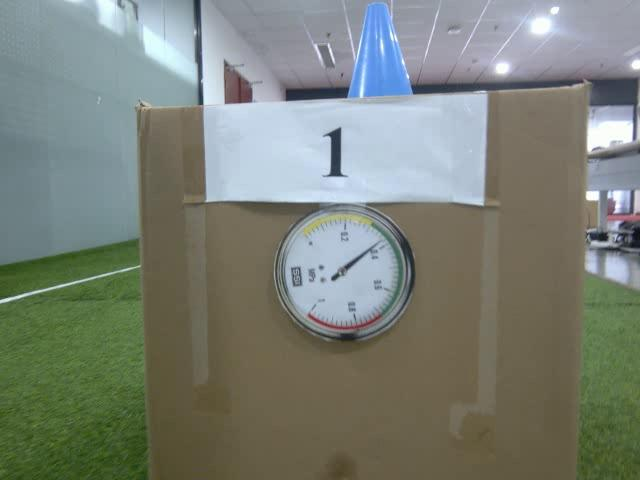1: (321, 126, 348, 179)
Dashboard: (274, 204, 415, 344)
blue_barrel: (345, 1, 413, 99)
ssi: (291, 266, 302, 286)
